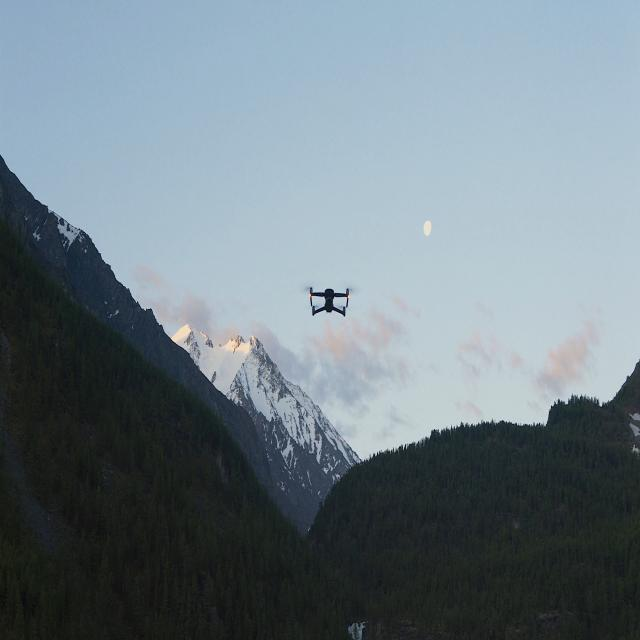Drone: (303, 284, 349, 317)
